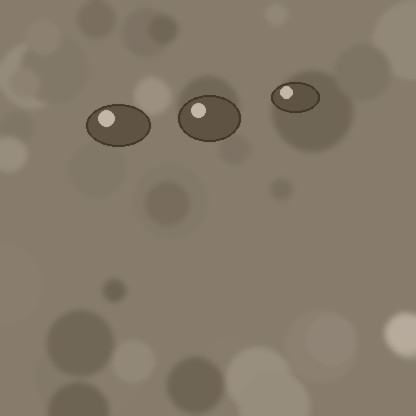gota: (178, 97, 240, 145), (86, 106, 150, 150), (271, 83, 319, 115)
